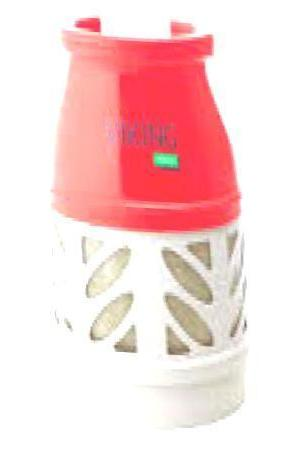cylinder: (1, 1, 283, 453)
